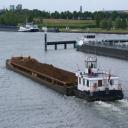tugboat: (73, 55, 126, 104)
